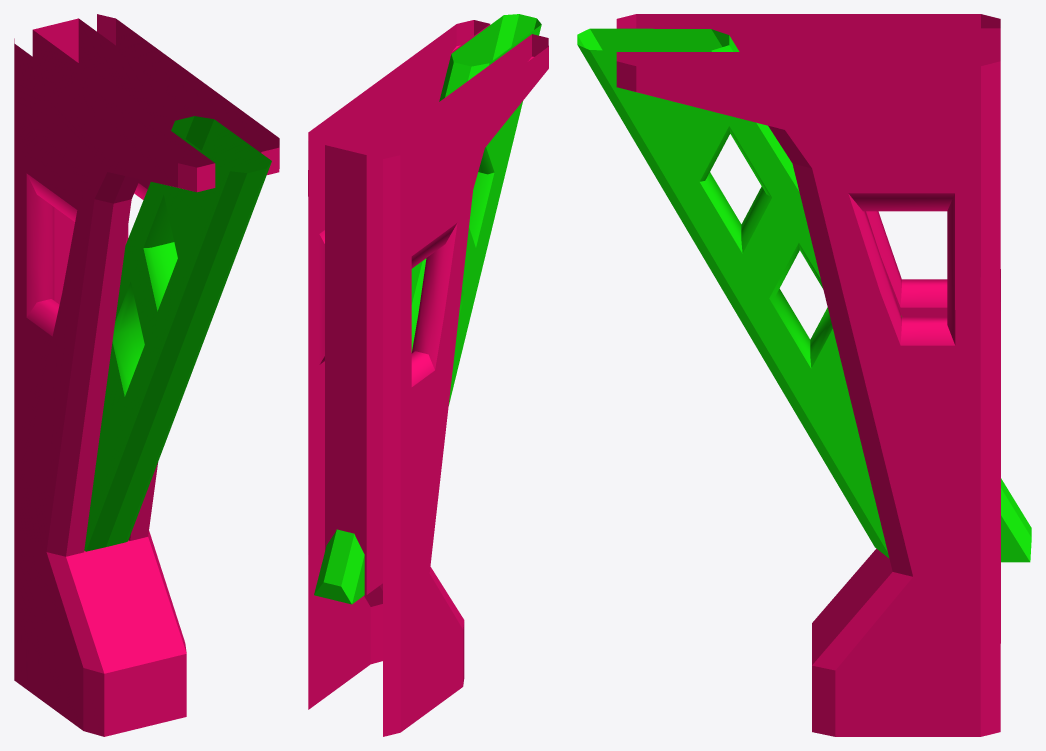
File: Column_01.FBX
3 renders of one model, left to right at view 1: azimuth 30°, elevation 25°; view 2: azimuth 150°, elevation 25°; view 3: azimuth 270°, elevation 25°, orthographic. The views are drawn at different scales.
Parts seen in each view (by area): view 1: Object017, Box009; view 2: Object017, Box009; view 3: Object017, Box009.
Part boxes in pixels (left/top/right/bottom): Object017: left=14, top=14, right=279, bottom=736; Box009: left=84, top=116, right=271, bottom=551; Object017: left=308, top=20, right=548, bottom=736; Box009: left=314, top=14, right=541, bottom=604; Object017: left=616, top=14, right=1000, bottom=736; Box009: left=577, top=28, right=1031, bottom=562.
Bounding box in the file's own units: 0.9543 × 5.71 × 3.5.
